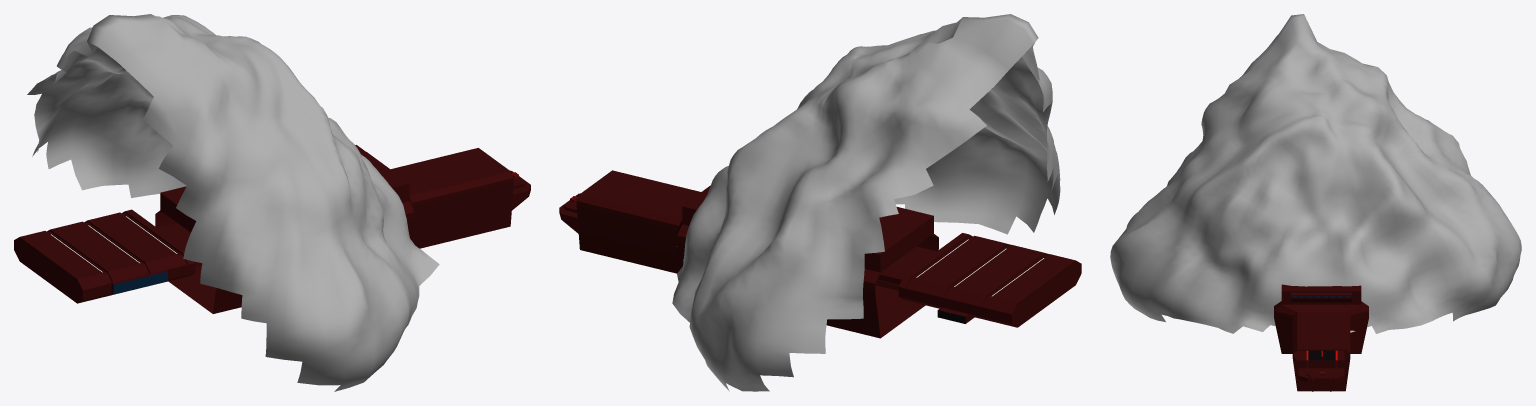
The model's file is MountainBase.fbx.
3 views of the same model, side by side, from view 1: azimuth 30°, elevation 25°; view 2: azimuth 150°, elevation 25°; view 3: azimuth 270°, elevation 25° (orthographic). The views are drawn at different scales.
Parts seen in each view (by area): view 1: MountainBaseRock, MountainBase; view 2: MountainBaseRock, MountainBase; view 3: MountainBaseRock, MountainBase.
Boxes of the visible parts, x1,y1,x2,y2 form: MountainBaseRock: [27, 14, 439, 391]; MountainBase: [14, 145, 530, 313]; MountainBaseRock: [672, 14, 1060, 391]; MountainBase: [559, 170, 1081, 338]; MountainBaseRock: [1110, 14, 1521, 333]; MountainBase: [1274, 284, 1368, 391].
Size of the model in its own units: 10.34 by 6.71 by 10.28.
